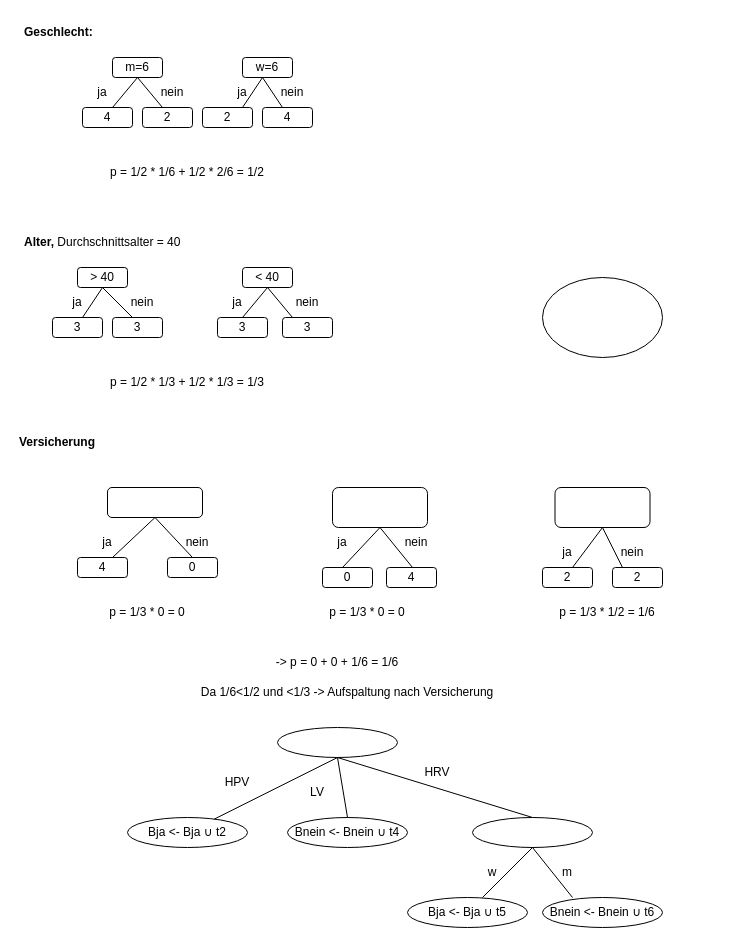
Image size: 749x945. Some labels were removed from this diagram. Here are the shapes that lost their labels. From the top down, the box of each, then its label:
(542, 276, 662, 358): B ja <-
(106, 486, 202, 518): HPV = 1/3
(332, 486, 428, 528): LV = 1/3
(554, 486, 650, 528): HRV = 1/3
(276, 726, 398, 758): t1: Versicherung
(472, 816, 592, 848): t2: Geschlecht
